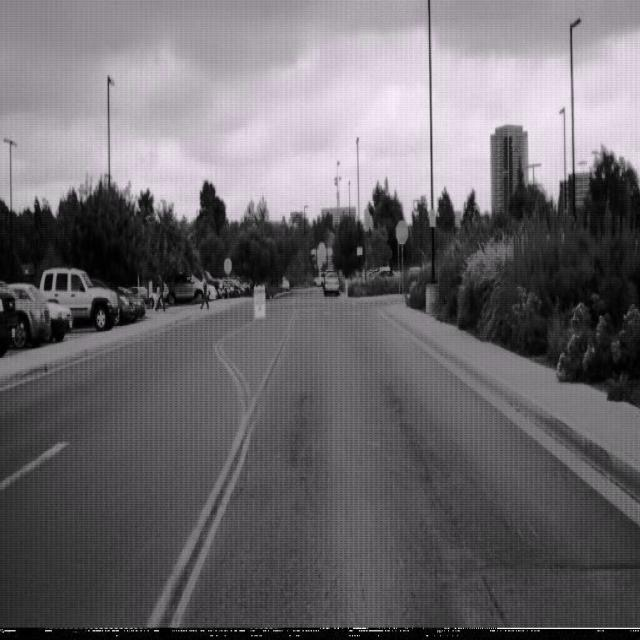stop_sign: (395, 219, 408, 244)
